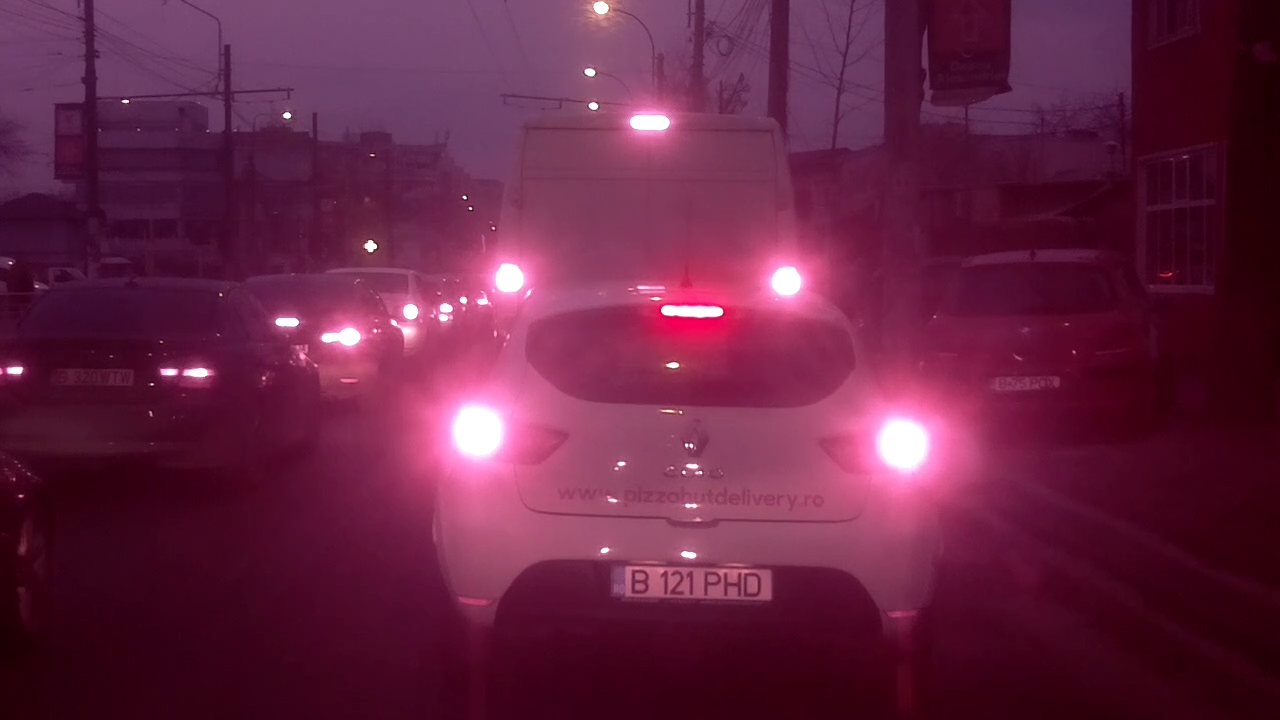license-plate: (603, 562, 778, 605), (986, 372, 1065, 393)
